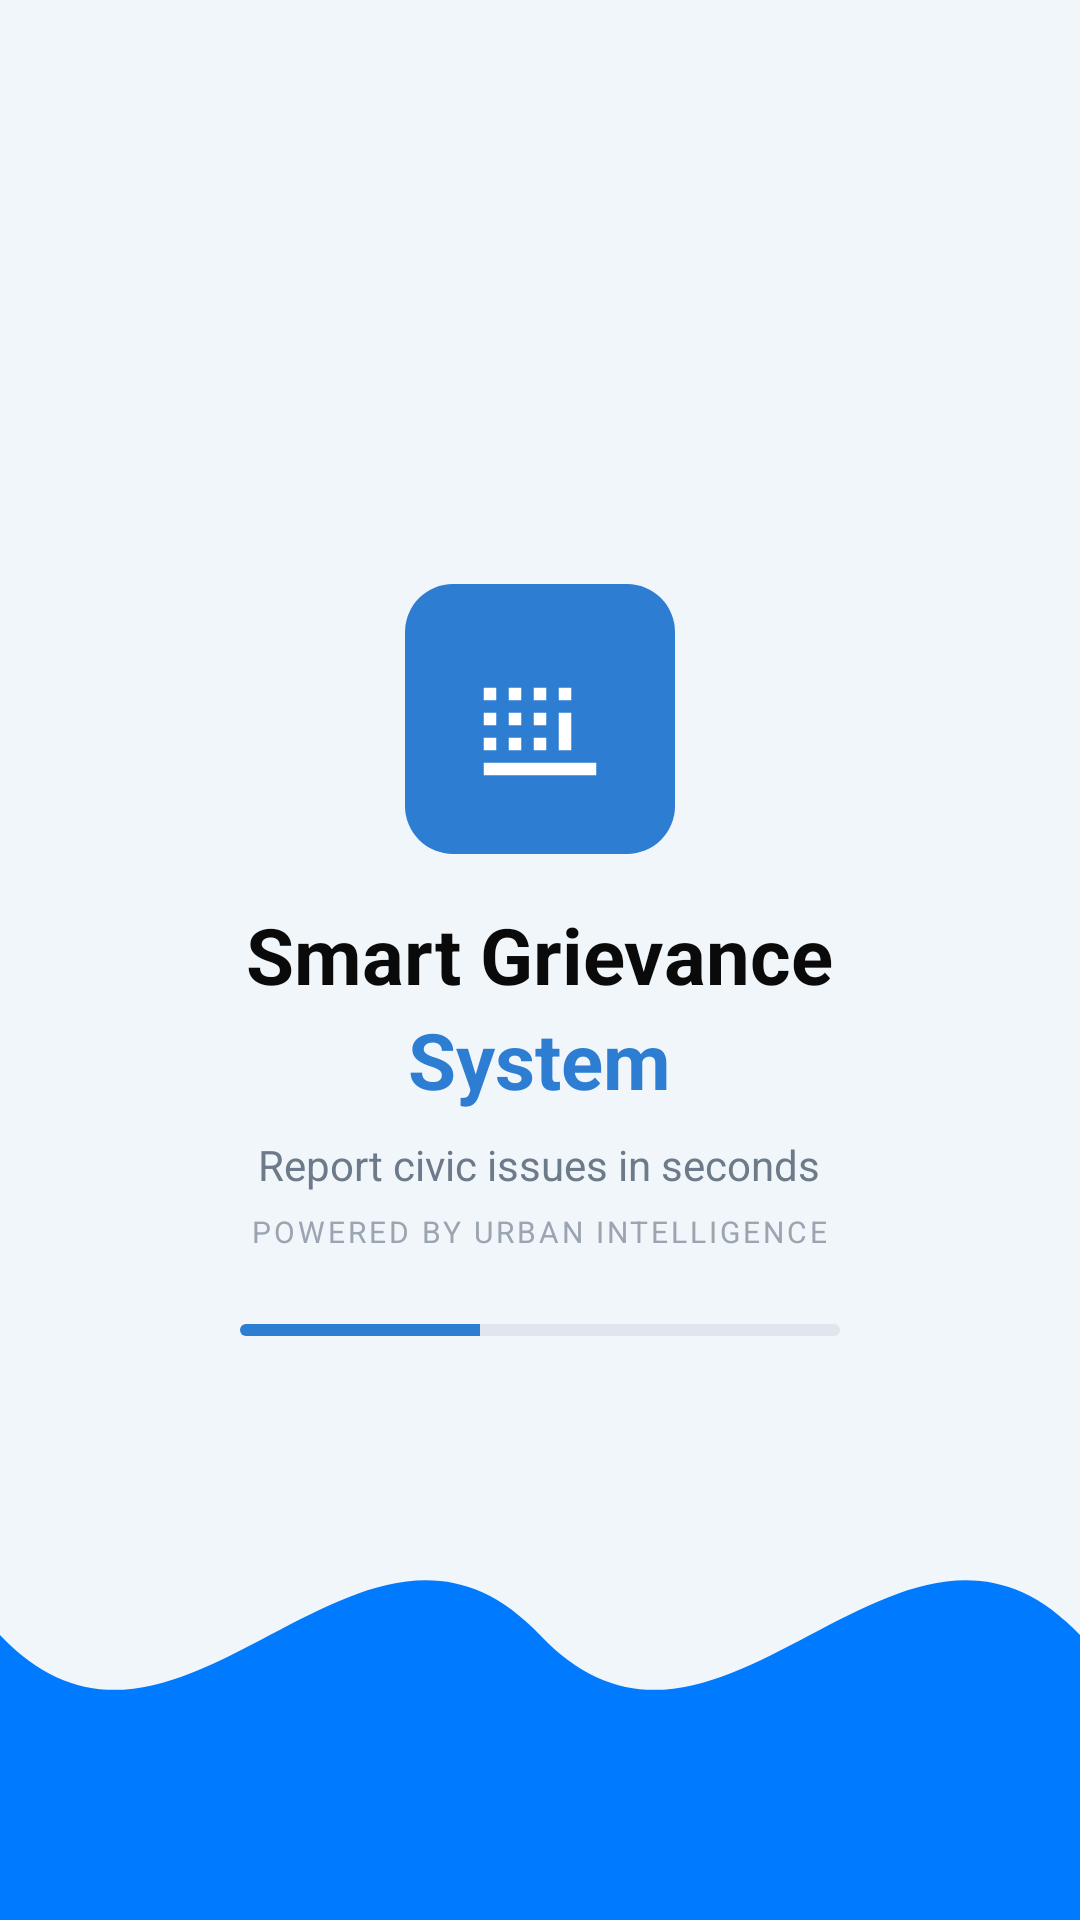

Icon bounding boxes for this 1080w x 1920h phone screenshot, format (x1, y1, x2, y2):
building: (405, 584, 675, 854)
